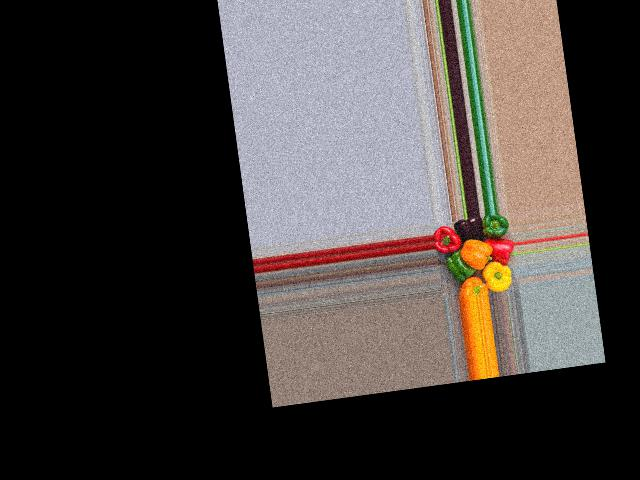bell_pepper: (448, 268, 488, 298)
